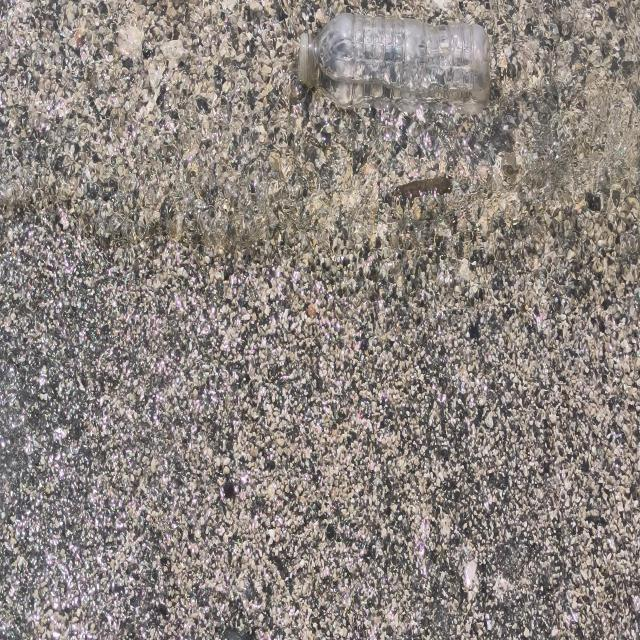plastic_waste: (299, 12, 493, 118)
